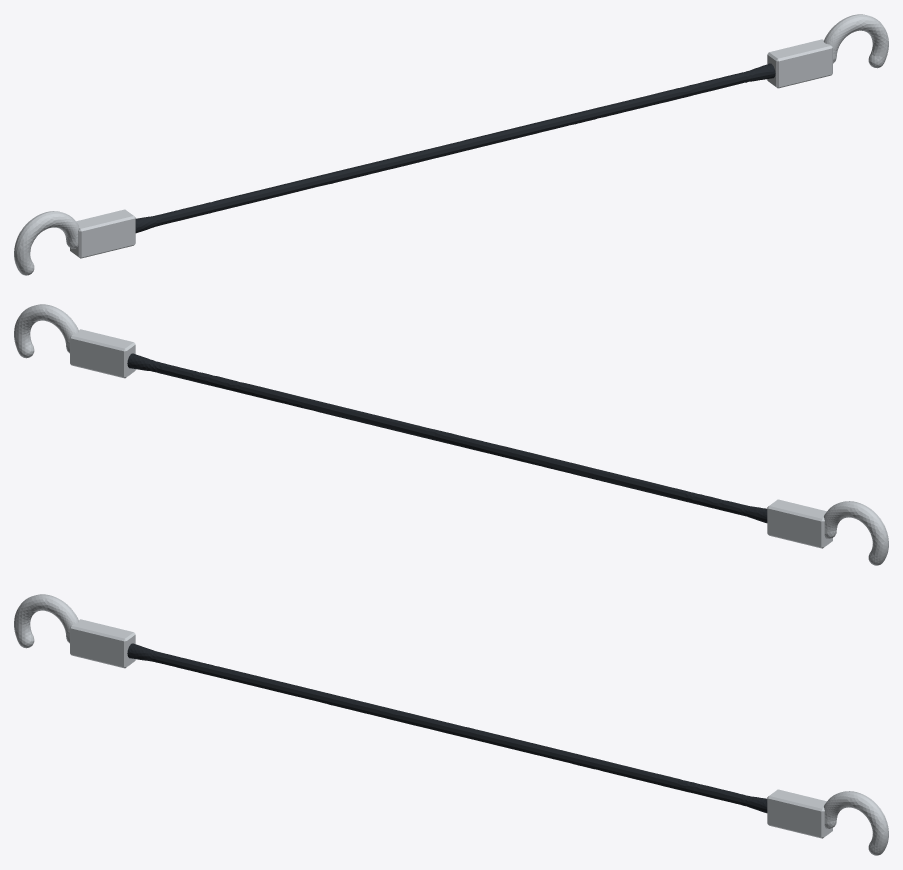
3 renders of one model, top to bottom at view 1: azimuth 30°, elevation 25°; view 2: azimuth 150°, elevation 25°; view 3: azimuth 330°, elevation 25°, orthographic.
Parts seen in each view (by area): view 1: geometry_0; view 2: geometry_0; view 3: geometry_0.
Boxes of the visible parts, x1,y1,x2,y2 form: geometry_0: [14, 14, 888, 275]; geometry_0: [14, 304, 888, 565]; geometry_0: [14, 594, 888, 855].
Size of the model in its own units: 0.368 by 0.023 by 0.008.
1 material, 1 textured.
